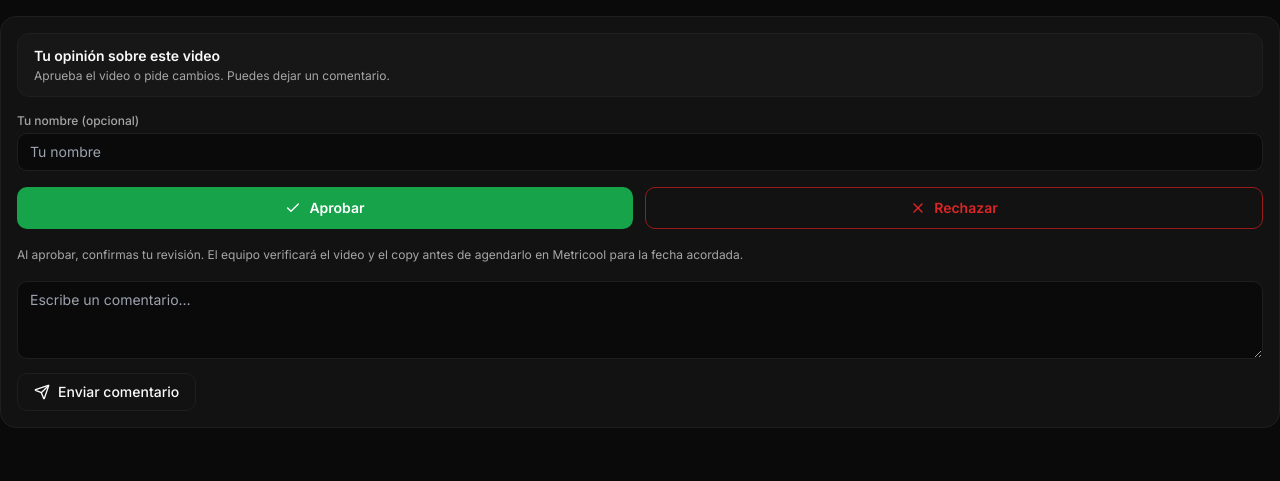
it: ReviewActions › surfaces an error returned by the decision action
This screenshot has width=1280, height=481.
Click the button "Aprobar": x=325, y=208 [17,187,633,229]
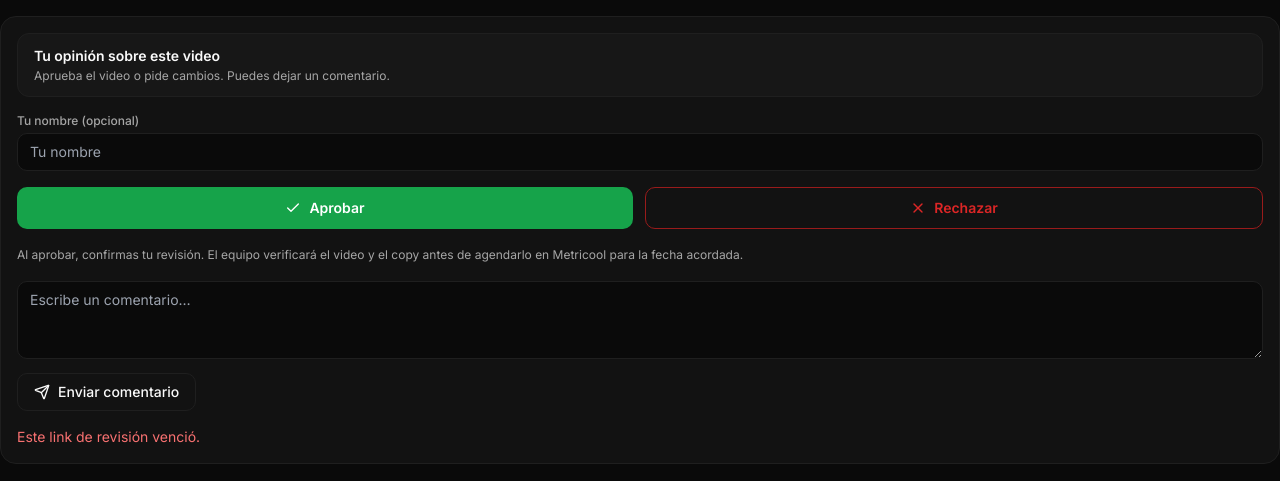
Expected: the text "Este link de revisión venció." is shown, [17,428,200,444]
